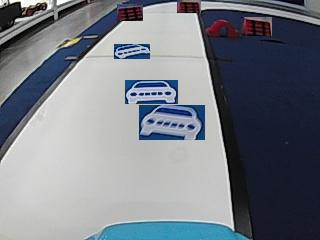bridge: (206, 20, 237, 39)
